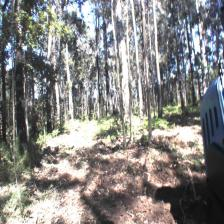trunktrack_idkeyframe: (145, 75, 152, 143), (156, 68, 162, 118)
